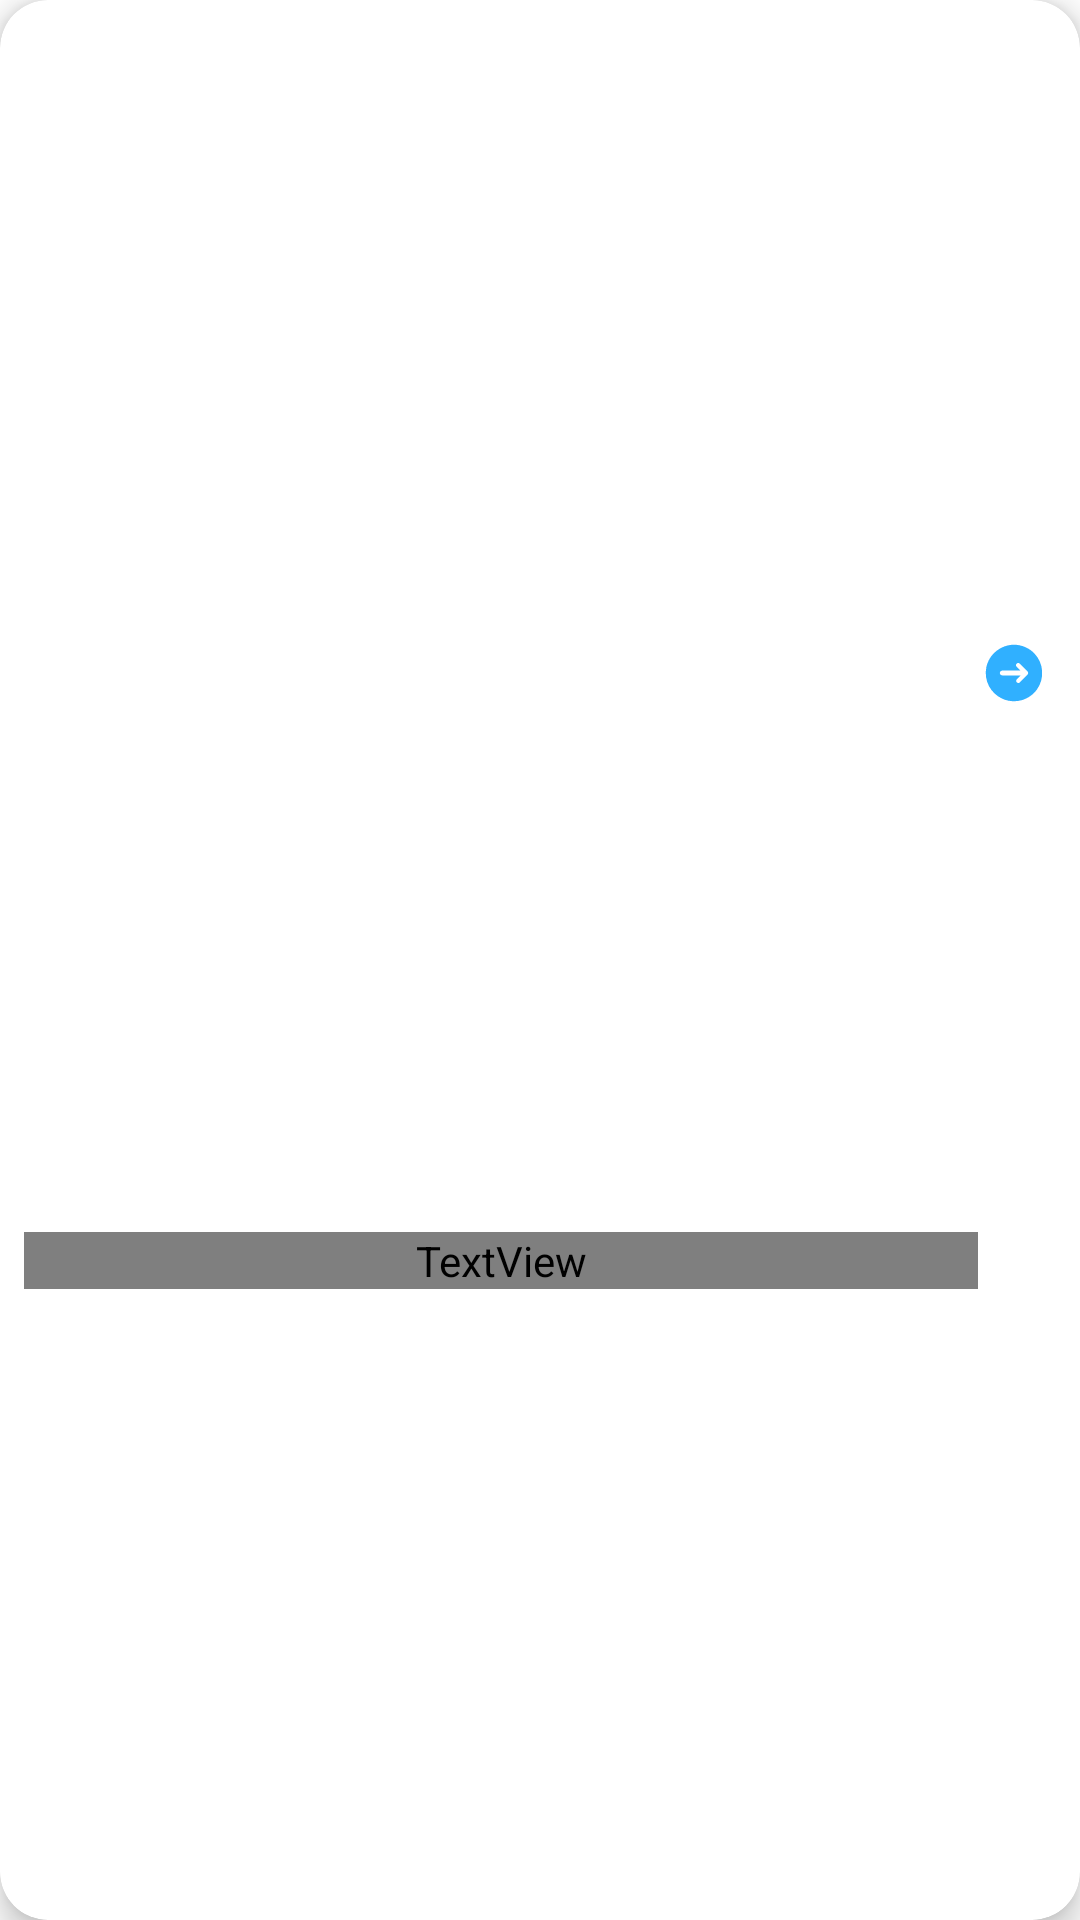

Screen size 1080×1920. Icon name, then its center in pixels as (x=x, y=y):
click arrow: (x=1013, y=673)
